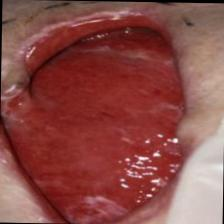orthopaedic-wounds: (0, 2, 209, 224)
